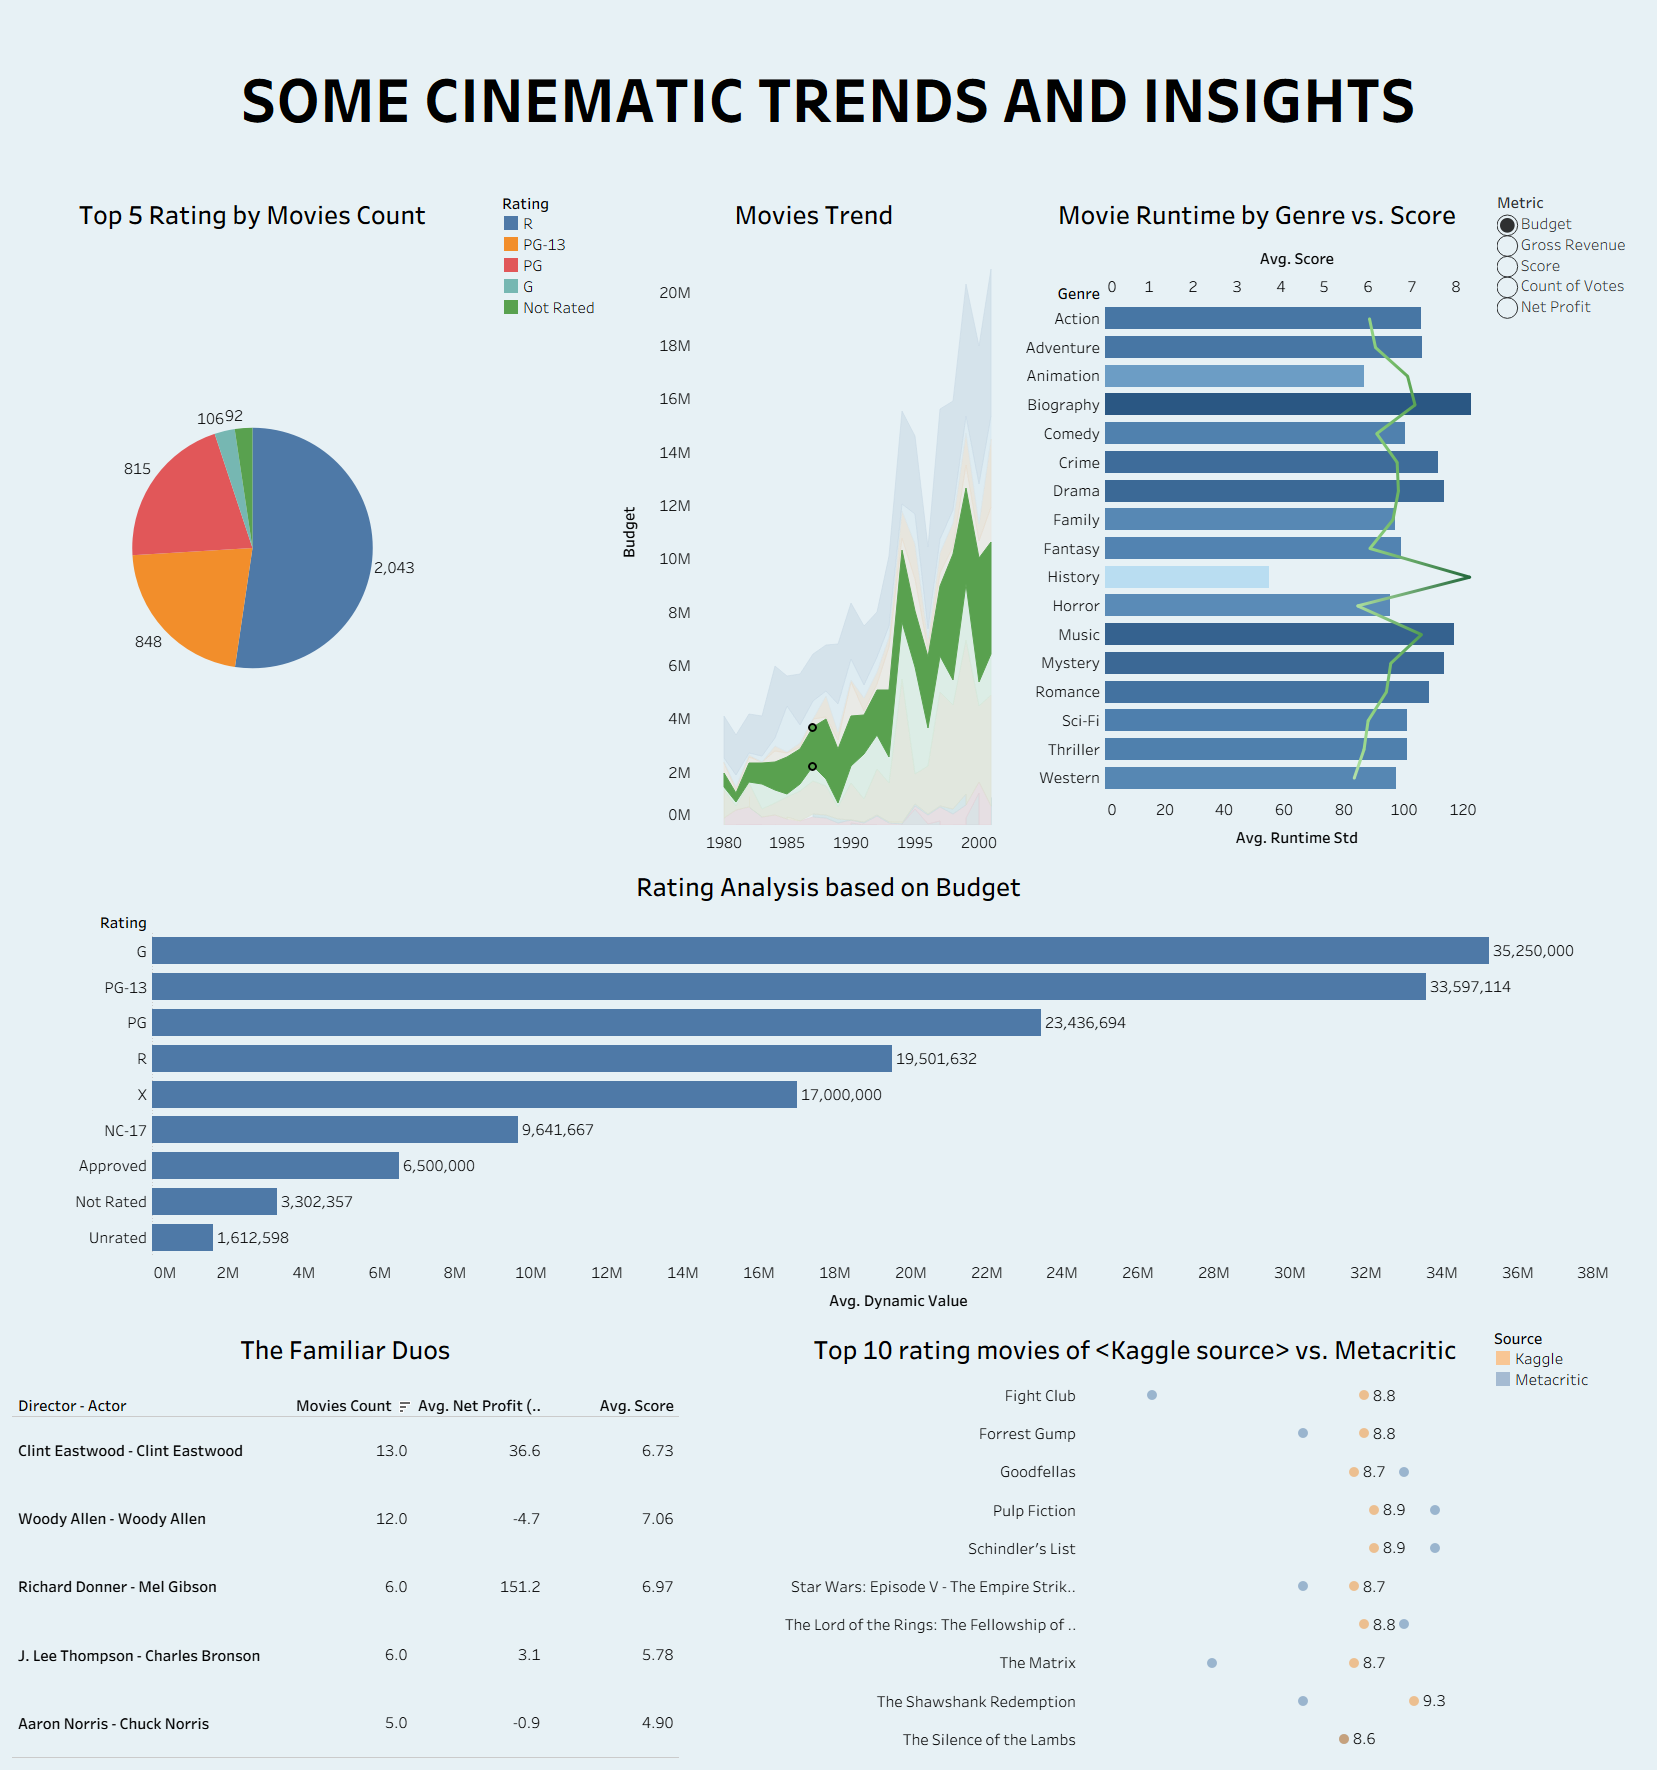

This screenshot's page, from the dashboard's own definition file:
{"tool":"tableau","page":{"name":"Dashboard 3","canvas":[1657,1770],"ordinal":2},"visuals":[{"type":"title","box":[8,8,1641,179]},{"type":"worksheet","title":"Movie Cnt by Rating","mark":"Pie","box":[8,187,489,672.2]},{"type":"legend","title":"Movie Cnt by Rating","param":"[federated.0g33uv619y5pu513yh8qm0dsra5h].[none:rating:nk]","box":[497,187,110,672.2]},{"type":"worksheet","title":"Movie Trend","mark":"Area","rows":["Dynamic Value (for human factor) (copy)_1223008789219946496"],"cols":["year"],"box":[607,187,414,672.2]},{"type":"worksheet","title":"Runtime vs. Score","mark":"Automatic","rows":["genre"],"cols":["Calculation_1523624063911288837","score"],"box":[1021,187,472,672.2]},{"type":"parameter","param":"[Parameters].[Parameter 1]","box":[1493,187,156,672.2]},{"type":"worksheet","title":"Rating-wise","mark":"Automatic","rows":["rating"],"cols":["Calculation_1523624063912140806"],"box":[8,859.2,1641,462.7]},{"type":"worksheet","title":"Duos","mark":"Automatic","rows":["Calculation_1223008789223436290"],"box":[8,1321.9,675,440.1]},{"type":"image","param":"Image/xoa background-Photoroom.png","box":[683,1321.9,98,440.1]},{"type":"worksheet","title":"OwnSource vs. Metacritic","mark":"Circle","rows":["name"],"cols":["Calculation_-3860147812752969728","score"],"box":[781,1321.9,708,440.1]},{"type":"legend","title":"OwnSource vs. Metacritic","param":"[federated.009itg5054vps014zlenz0qou5z6].[:Measure Names]","box":[1489,1321.9,160,440.1]}]}

Visuals, with their boxes in screenshot pixels (x1, y1, x2, y2), scaled from the page's 1657x1770 canvas onto the 1657x1770 screenshot:
title: detection(8, 8, 1649, 187)
"Movie Cnt by Rating" worksheet (Pie marks): detection(8, 187, 497, 859)
"Movie Cnt by Rating" legend: detection(497, 187, 607, 859)
"Movie Trend" worksheet (Area marks): detection(607, 187, 1021, 859)
"Runtime vs. Score" worksheet: detection(1021, 187, 1493, 859)
parameter: detection(1493, 187, 1649, 859)
"Rating-wise" worksheet: detection(8, 859, 1649, 1322)
"Duos" worksheet: detection(8, 1322, 683, 1762)
image: detection(683, 1322, 781, 1762)
"OwnSource vs. Metacritic" worksheet (Circle marks): detection(781, 1322, 1489, 1762)
"OwnSource vs. Metacritic" legend: detection(1489, 1322, 1649, 1762)
